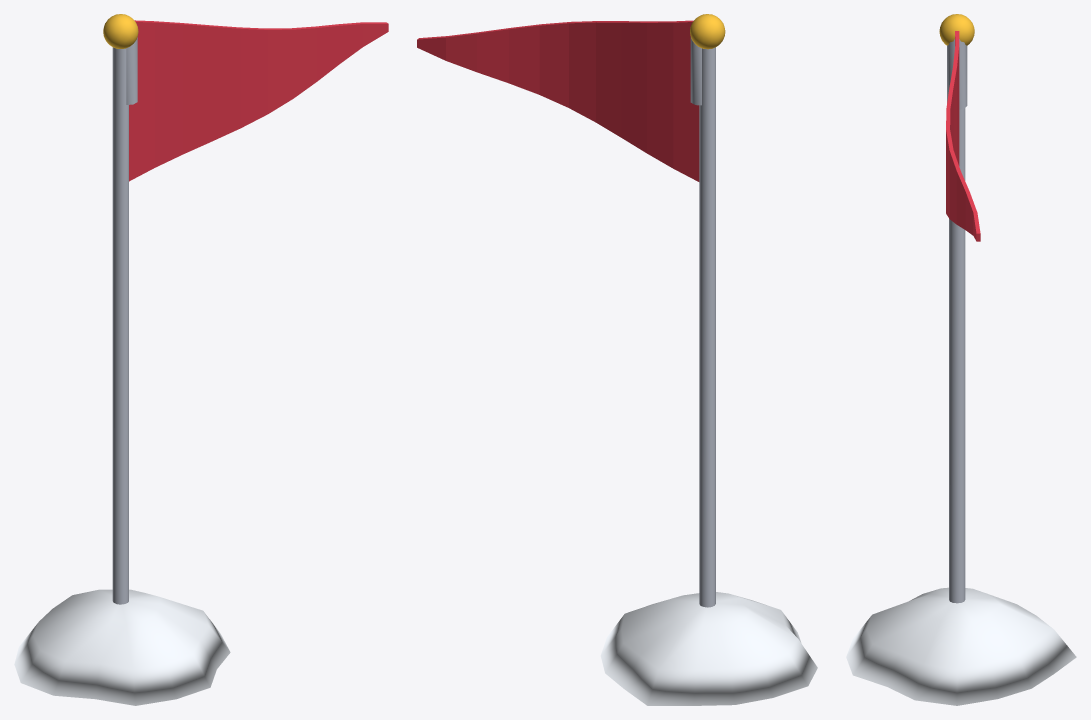
The model's file is SnowballSummitFlag.obj.
The picture shows the model from 3 angles, left to right: view 1: azimuth 30°, elevation 25°; view 2: azimuth 150°, elevation 25°; view 3: azimuth 270°, elevation 25°; orthographic projection.
Parts seen in each view (by area): view 1: Cloth, Mound, Pole, Knob; view 2: Cloth, Mound, Pole, Knob; view 3: Mound, Pole, Cloth, Knob.
Part boxes in pixels (left/top/right/bottom): Cloth: left=129, top=20, right=388, bottom=181; Mound: left=14, top=589, right=230, bottom=705; Pole: left=112, top=37, right=137, bottom=604; Knob: left=103, top=14, right=138, bottom=48; Cloth: left=417, top=20, right=699, bottom=181; Mound: left=600, top=592, right=817, bottom=705; Pole: left=690, top=37, right=715, bottom=607; Knob: left=690, top=14, right=725, bottom=49; Mound: left=846, top=587, right=1076, bottom=705; Pole: left=947, top=39, right=967, bottom=603; Cloth: left=946, top=31, right=980, bottom=241; Knob: left=939, top=14, right=974, bottom=45.
Bounding box in the file's own units: 6.4 × 10.41 × 3.39.
